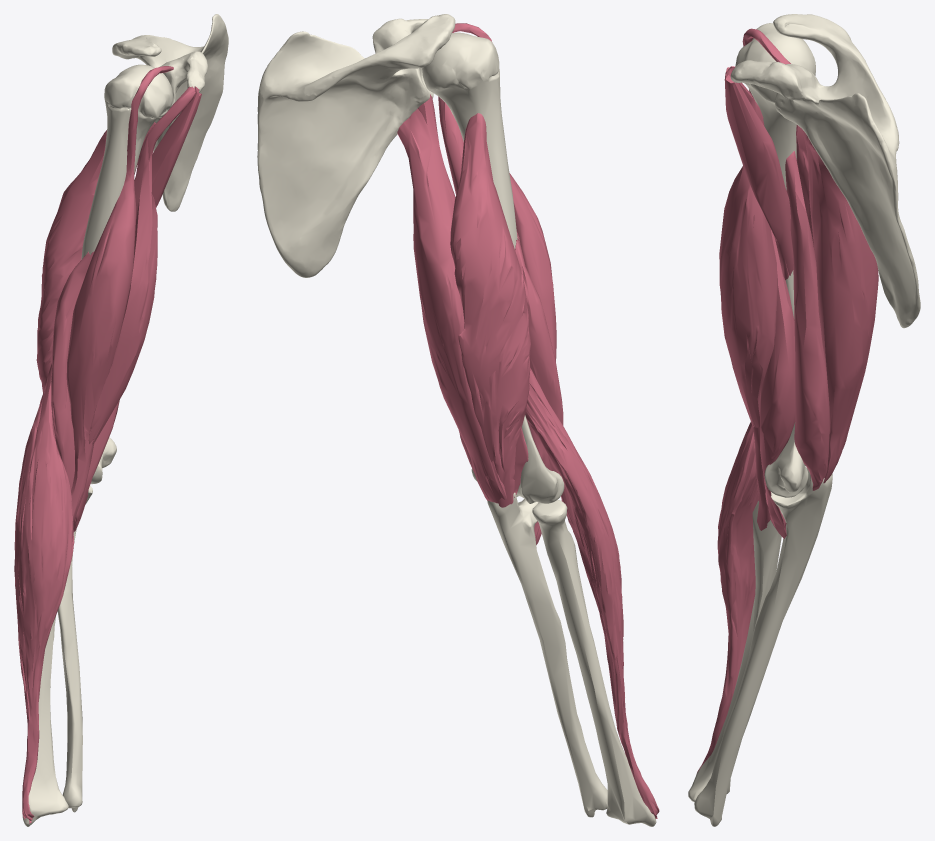
File: arm.glb
3 views of the same model, side by side, from view 1: azimuth 30°, elevation 25°; view 2: azimuth 150°, elevation 25°; view 3: azimuth 270°, elevation 25° (orthographic). The views are drawn at different scales.
Visible parts, largest first — view 1: biceps-brachii, brachioradialis, scapula, humerus, triceps-brachii, brachialis, ulna, radius, coracobrachialis; view 2: triceps-brachii, scapula, brachioradialis, humerus, radius, ulna, biceps-brachii, brachialis, coracobrachialis; view 3: triceps-brachii, scapula, biceps-brachii, ulna, brachioradialis, humerus, coracobrachialis, brachialis, radius.
Boxes of the visible parts, x1,y1,x2,y2 form: biceps-brachii: [66, 66, 195, 522]; brachioradialis: [14, 363, 74, 823]; scapula: [112, 14, 228, 211]; humerus: [81, 64, 172, 484]; triceps-brachii: [36, 122, 155, 393]; brachialis: [51, 251, 119, 531]; ulna: [57, 485, 92, 812]; radius: [22, 615, 68, 826]; coracobrachialis: [151, 86, 201, 207]; triceps-brachii: [397, 94, 530, 507]; scapula: [257, 14, 455, 277]; brachioradialis: [525, 368, 659, 818]; humerus: [422, 32, 564, 503]; radius: [532, 499, 656, 826]; ulna: [487, 492, 607, 817]; biceps-brachii: [452, 23, 556, 361]; brachialis: [515, 230, 563, 544]; coracobrachialis: [438, 96, 463, 194]; triceps-brachii: [785, 125, 878, 490]; scapula: [730, 14, 920, 328]; biceps-brachii: [719, 28, 790, 530]; ulna: [694, 467, 832, 826]; brachioradialis: [697, 422, 758, 772]; humerus: [735, 23, 815, 497]; coracobrachialis: [724, 67, 793, 279]; brachialis: [760, 229, 795, 538]; radius: [688, 501, 781, 801].
Size of the model in its own units: 0.2235 by 0.5447 by 0.132.
